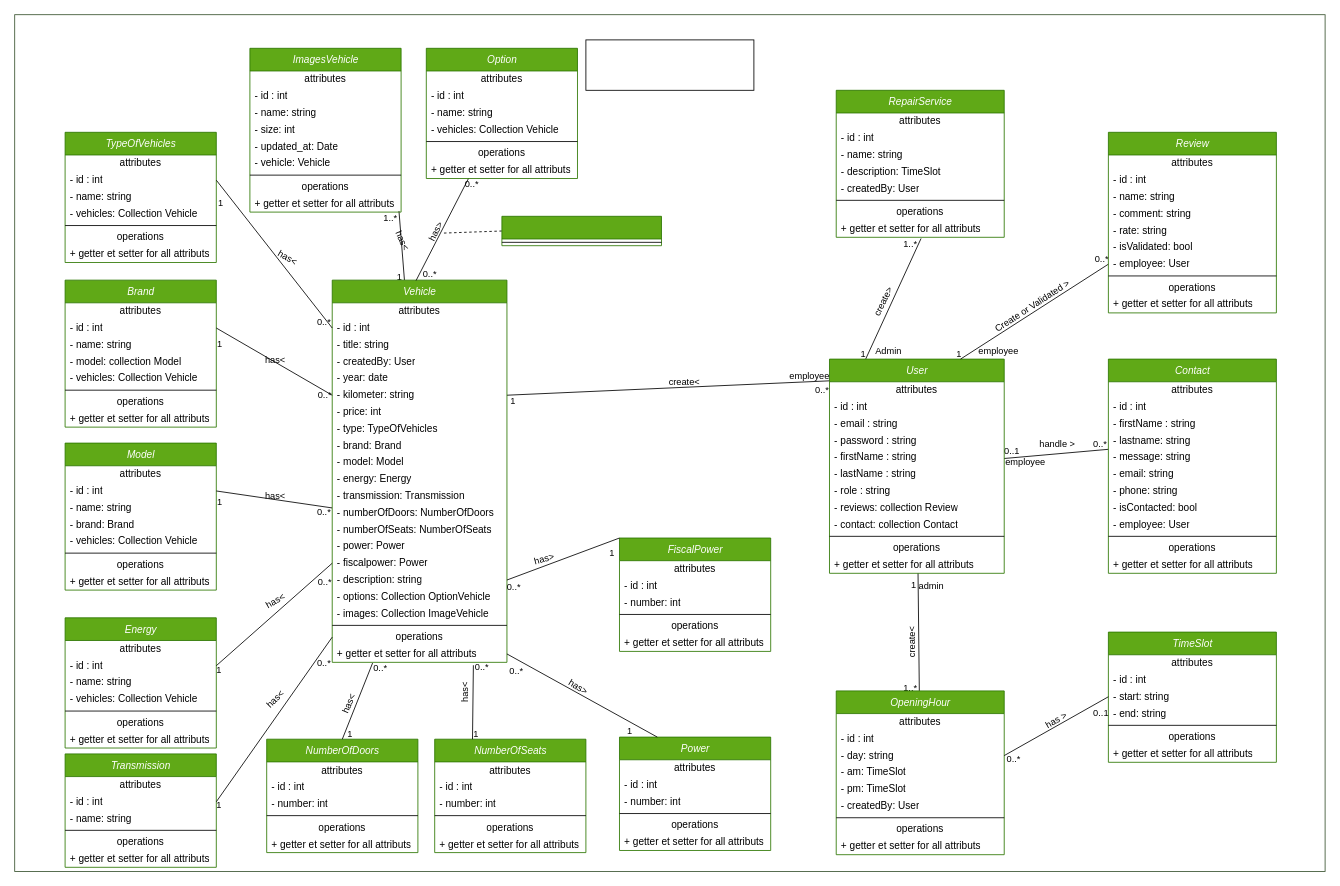
This 1340x886 diagram has some shape labels left out. Here are the shapes that lost their labels. From the top down, the centre of each, then its label:
At pixel 669 64: "class diagram".
At pixel 581 230: "OptionVehicle(auto créate in bdd)".
